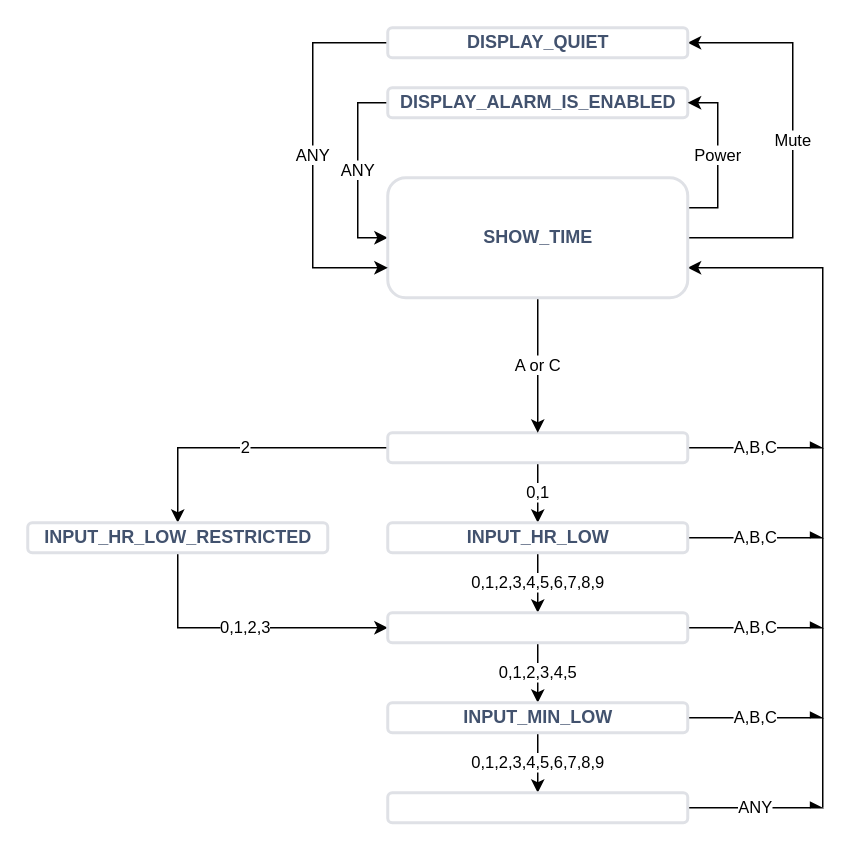
The diagram is 861 pixels wide and 849 high, and some of its shapes have lost their labels. The centre of each missing label's shape, as x and y in pixels:
"DISPLAY_DONE" goes at pixel 537 807.
"INPUT_HR_HIGH" goes at pixel 537 447.
"INPUT_MIN_HIGH" goes at pixel 537 627.
